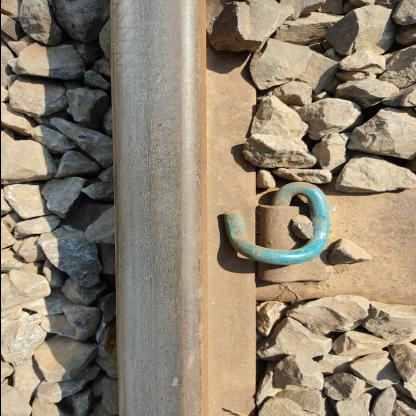Defective: (46, 178, 122, 316)
